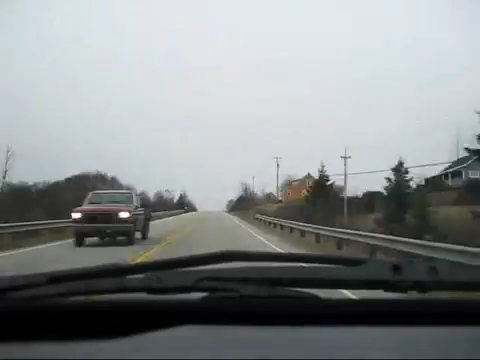car: (69, 188, 151, 244)
